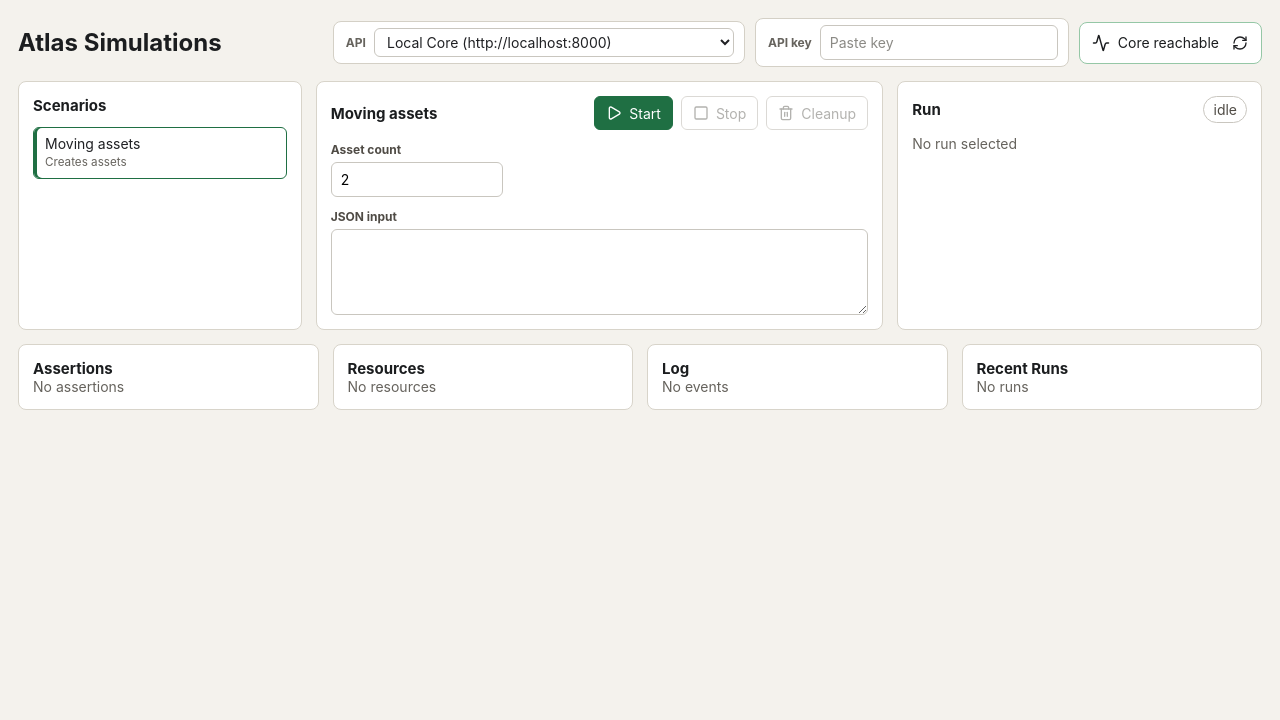
Scenario: App safety and cleanup › requires a fresh acknowledgement before each deployed start
Select "Atlas Command API (https://atlascommandapi.org)" in the dropdown labelled "API": (554, 42) [374,28,734,57]
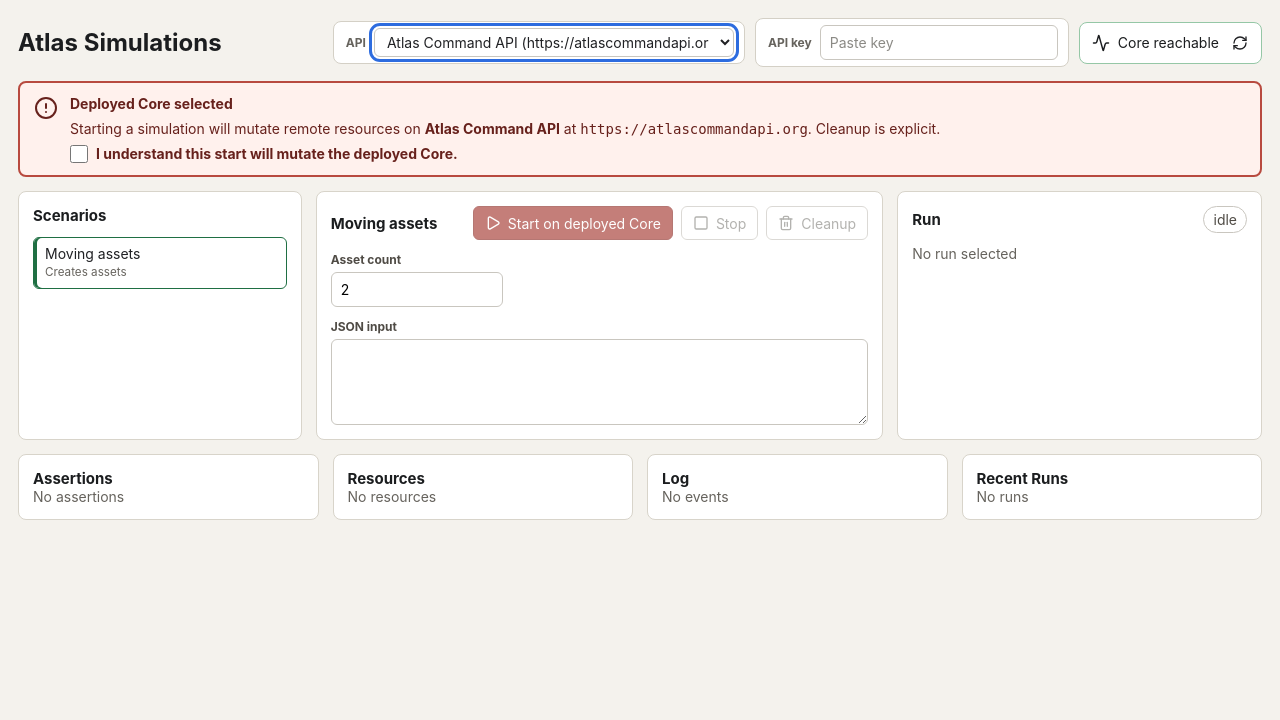
Expected: the message "Deployed Core selected" shows "Atlas Command API", [425,120,560,137]
Expected: the message "Deployed Core selected" shows "https://atlascommandapi.org", [580,121,808,137]
Expected: the checkbox labelled "I understand this start will mutate the deployed Core." is not checked
Click the checkbox labelled "I understand this start will mutate the deployed Core.": click(79, 154) [70,145,88,163]
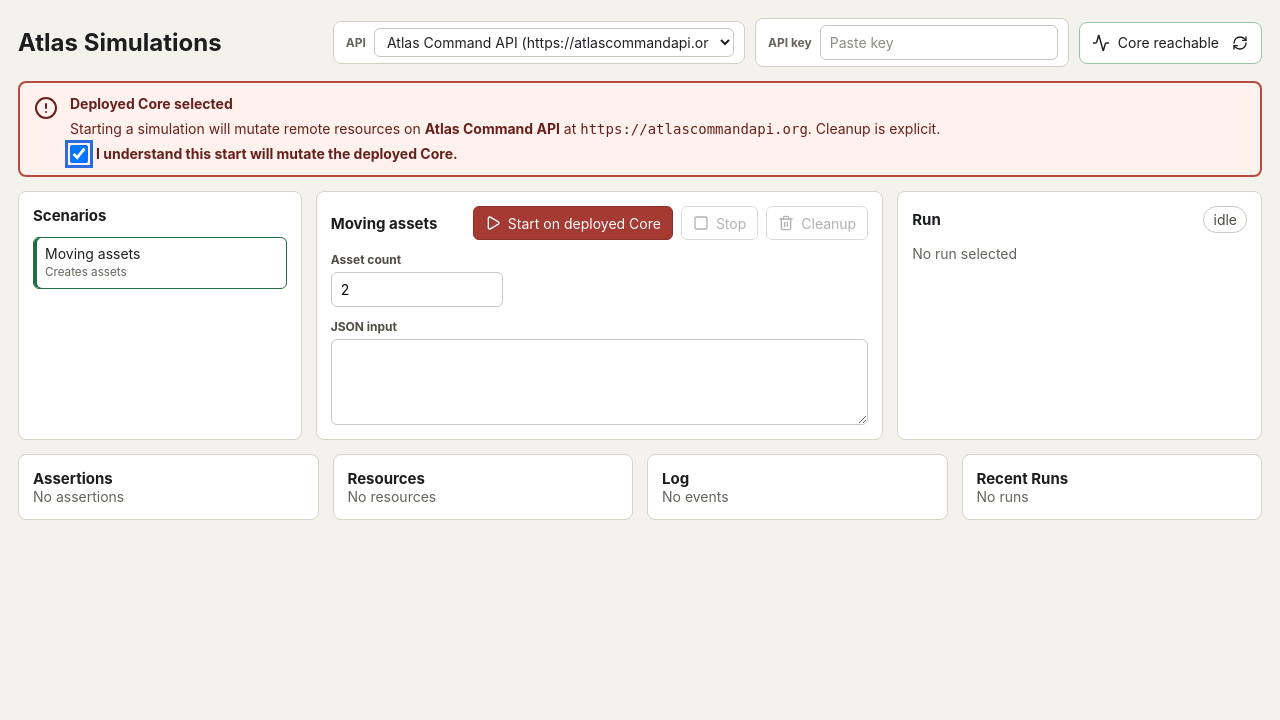
Expected: the button "Start on deployed Core" is enabled, [473,206,673,240]
Select "Local Core (http://localhost:8000)" in the dropdown labelled "API": (554, 42) [374,28,734,57]
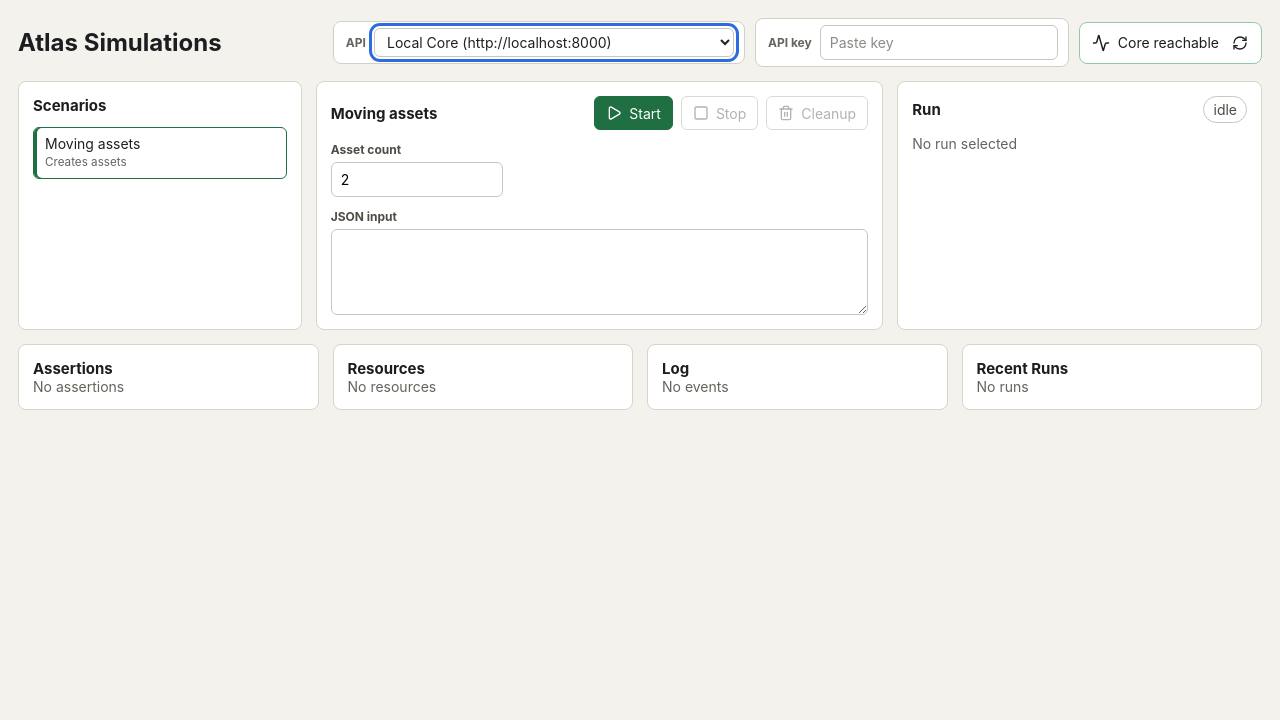
Expected: the text "Deployed Core selected" is gone
Select "Atlas Command API (https://atlascommandapi.org)" in the dropdown labelled "API": (554, 42) [374,28,734,57]
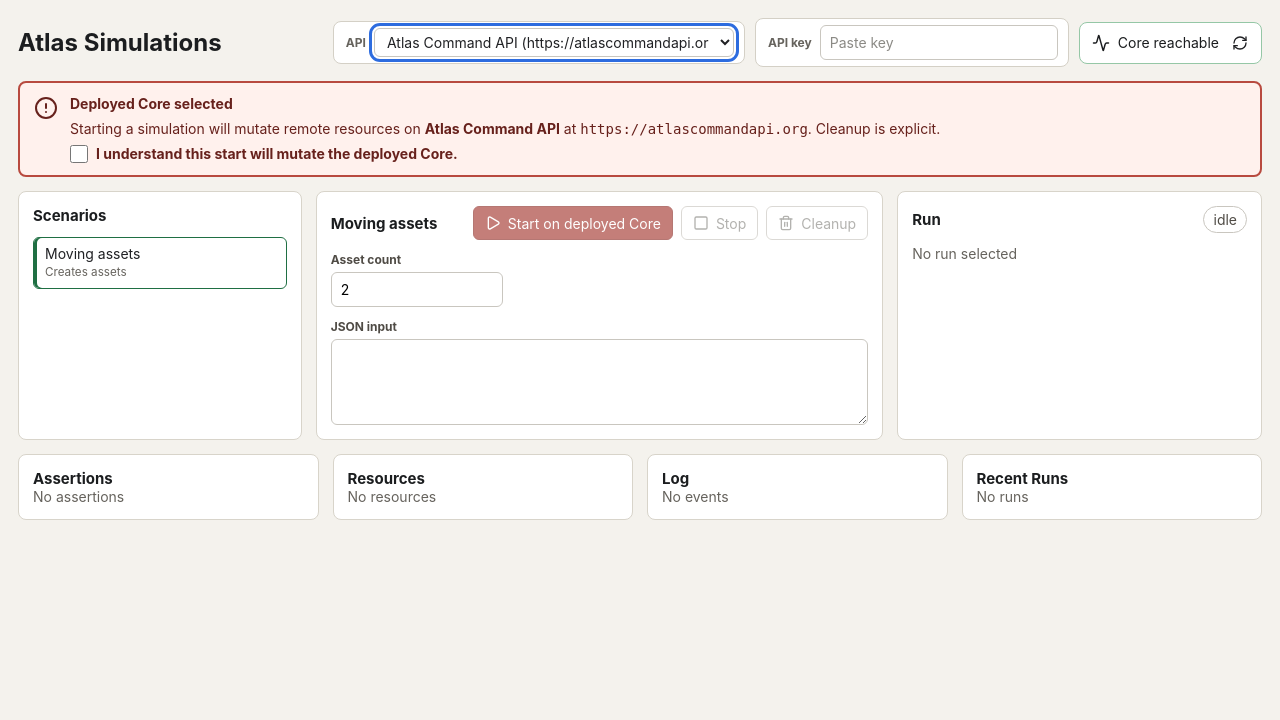
Expected: the checkbox labelled "I understand this start will mutate the deployed Core." is not checked
Expected: the button "Start on deployed Core" is disabled, [473,206,673,240]
Click the checkbox labelled "I understand this start will mutate the deployed Core.": click(79, 154) [70,145,88,163]
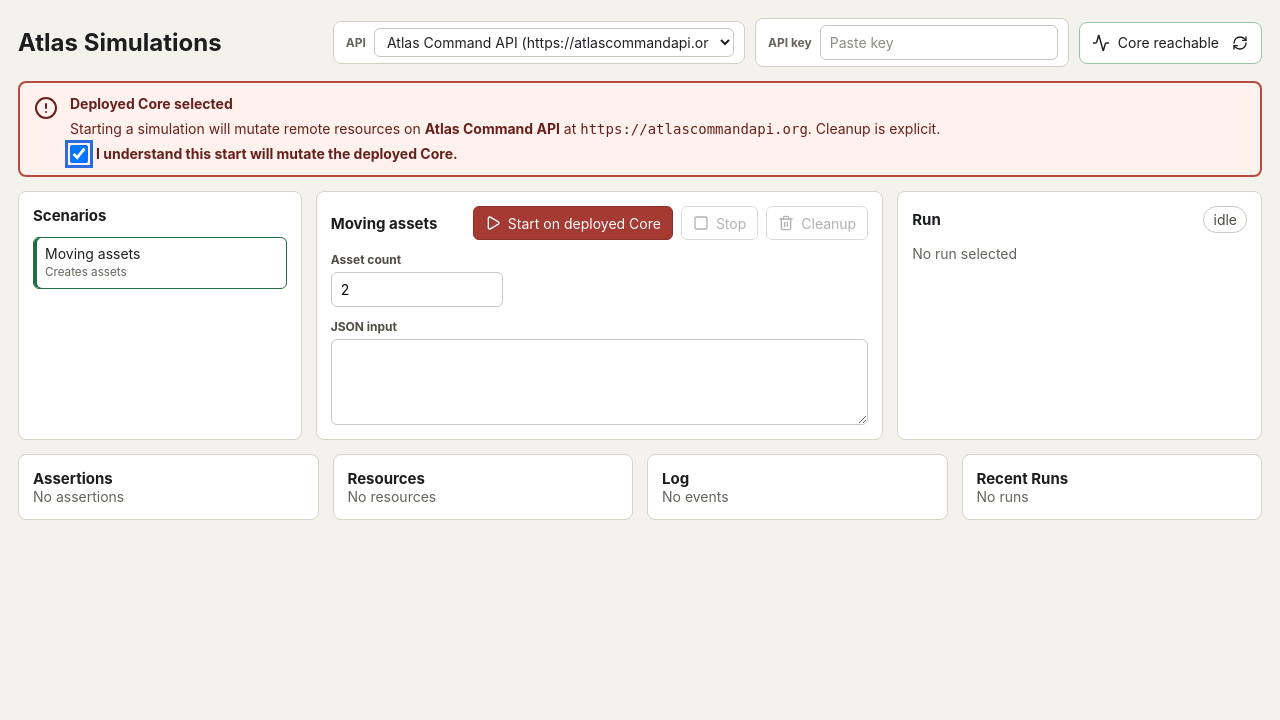
Click the button "Start on deployed Core": click(573, 223) [473,206,673,240]
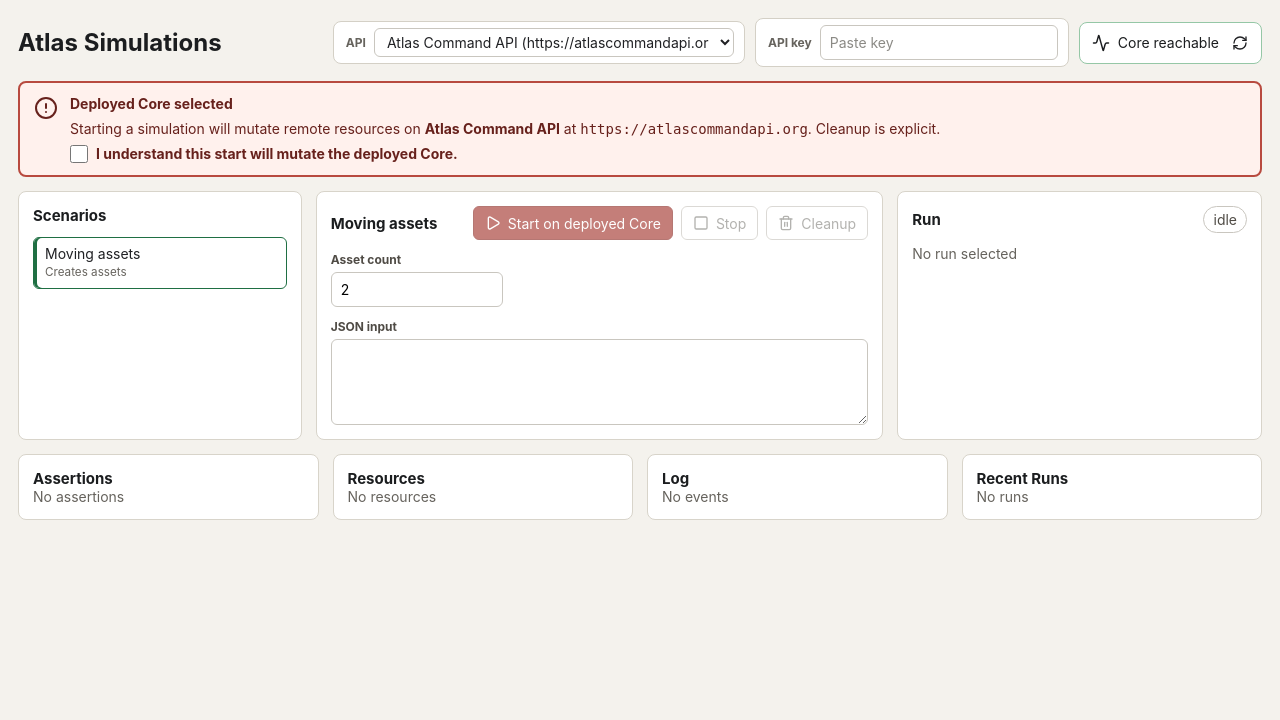
Expected: the checkbox labelled "I understand this start will mutate the deployed Core." is not checked, [70,145,88,163]
Expected: the button "Start on deployed Core" is disabled, [473,206,673,240]
